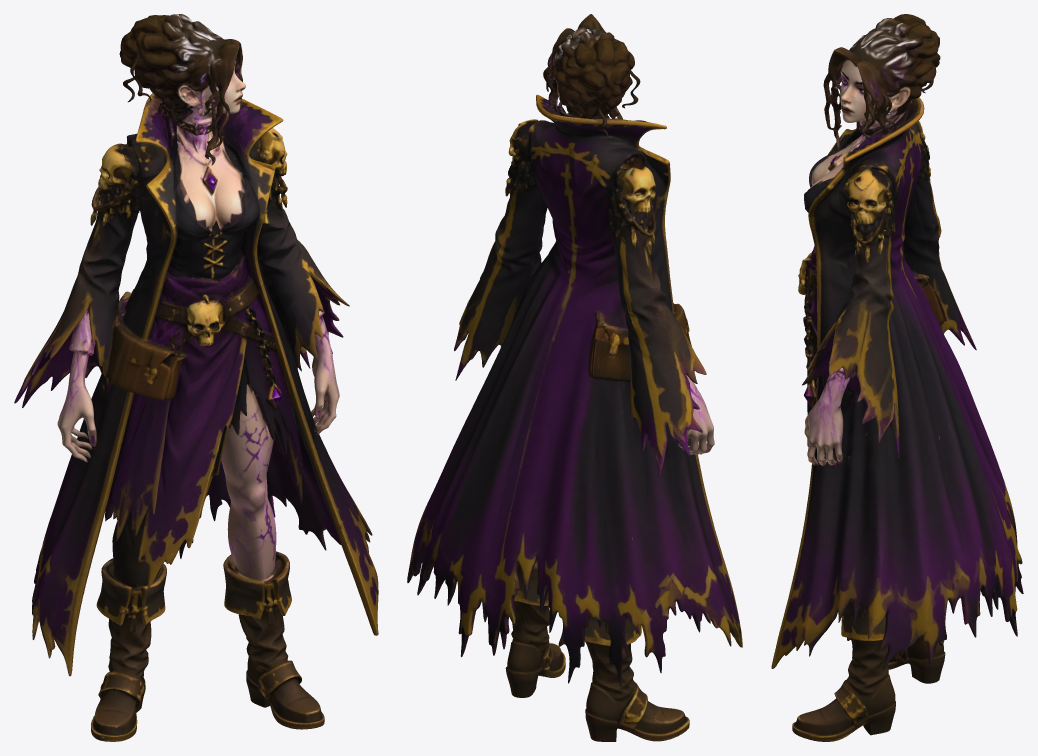
File: char_summoner.glb
3 renders of one model, left to right at view 1: azimuth 30°, elevation 25°; view 2: azimuth 150°, elevation 25°; view 3: azimuth 270°, elevation 25°, orthographic. The views are drawn at different scales.
Bounding box in the file's own units: 0.927 × 1.9 × 0.6477.
Materials: 1 (1 with a texture image).
